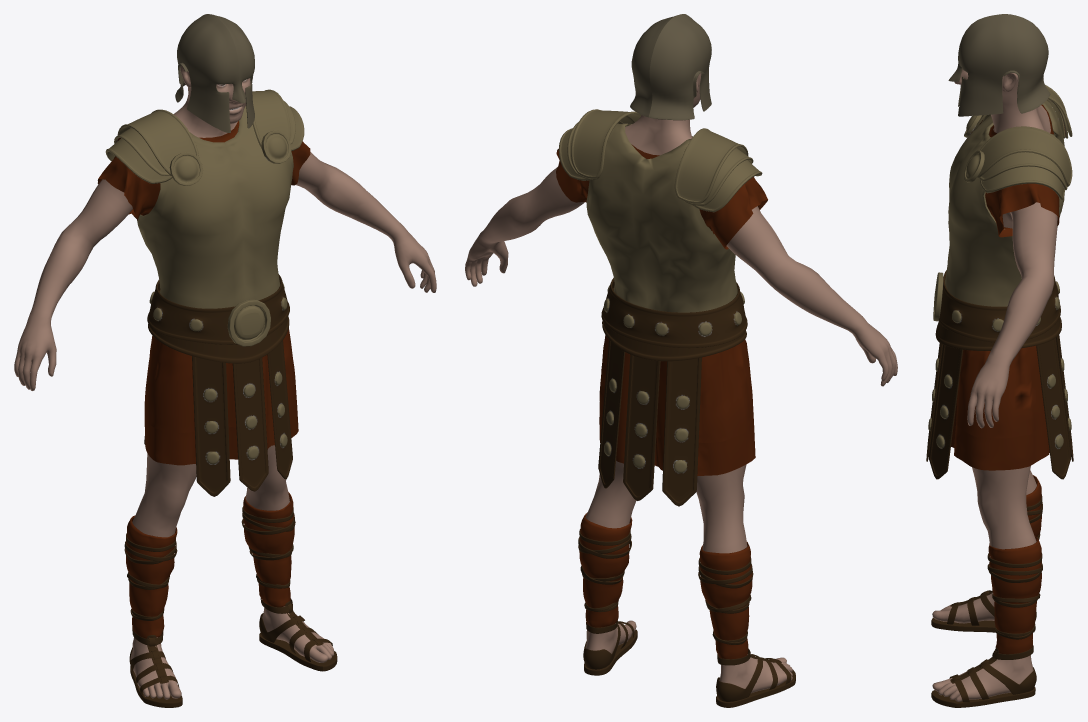
The model's file is amored_player_character_2k.fbx.
The picture shows the model from 3 angles, left to right: view 1: azimuth 30°, elevation 25°; view 2: azimuth 150°, elevation 25°; view 3: azimuth 270°, elevation 25°; orthographic projection. The views are drawn at different scales.
Parts seen in each view (by area): view 1: 4_low, 3_low, 1_low, 2_low; view 2: 4_low, 3_low, 1_low, 2_low; view 3: 4_low, 3_low, 1_low, 2_low.
Part boxes in pixels (bbox=[...]): 4_low: bbox=[125, 14, 321, 682]; 3_low: bbox=[105, 89, 332, 695]; 1_low: bbox=[14, 65, 436, 699]; 2_low: bbox=[97, 100, 337, 707]; 4_low: bbox=[579, 14, 779, 661]; 3_low: bbox=[558, 109, 791, 701]; 1_low: bbox=[465, 73, 897, 693]; 2_low: bbox=[556, 115, 795, 707]; 4_low: bbox=[945, 14, 1064, 681]; 3_low: bbox=[926, 85, 1073, 702]; 1_low: bbox=[932, 69, 1057, 701]; 2_low: bbox=[931, 99, 1068, 707].
Bounding box in the file's own units: 123 × 184 × 37.82.
